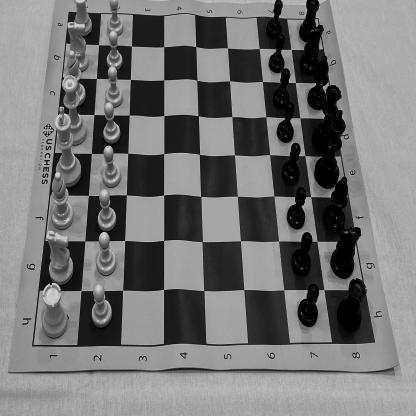black-bishop: (323, 175, 349, 231), (308, 56, 330, 109)
black-king: (314, 108, 346, 188)
black-knight: (330, 225, 362, 277), (300, 25, 324, 74)
black-pawn: (297, 284, 320, 328), (292, 232, 314, 276), (287, 185, 307, 230), (280, 144, 301, 184), (277, 102, 295, 144), (273, 67, 291, 108), (268, 32, 286, 72), (265, 0, 283, 38)
black-queen: (312, 85, 342, 151)
black-rook: (338, 278, 368, 332), (300, 0, 320, 41)
white-bishop: (50, 171, 74, 229), (64, 50, 86, 106)
white-king: (52, 107, 82, 186)
white-knight: (44, 229, 74, 285), (66, 20, 90, 70)
white-pawn: (92, 232, 118, 276), (90, 285, 113, 329), (100, 145, 122, 189), (95, 190, 117, 232), (100, 102, 122, 144), (106, 68, 124, 108), (106, 32, 124, 70), (106, 0, 124, 38)
white-queen: (60, 74, 87, 146)
white-rook: (39, 279, 68, 339), (72, 0, 92, 36)
